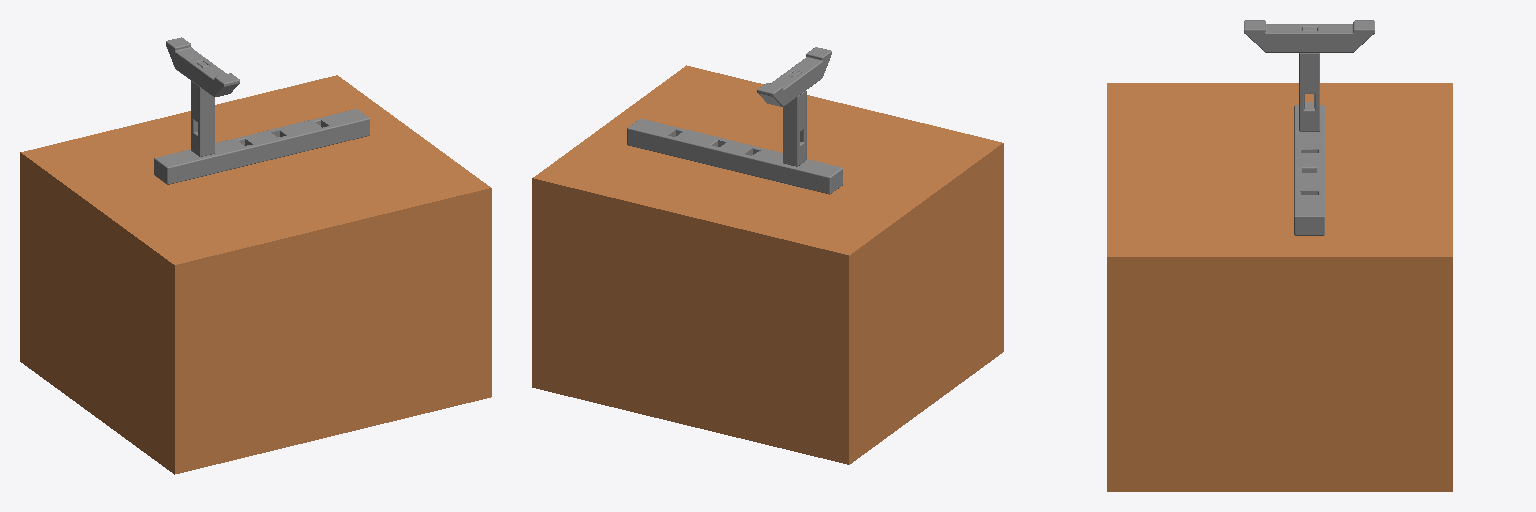
robot.urdf — table_beam_2x_3_scene_0026:
<?xml version="1.0"?>
<robot name="table_beam_2x_3_scene_0026">
  <link name="box">
    <visual>
      <material name="wood"><color rgba="0.82 0.56 0.35 1.0"/></material>
      <origin xyz="0 0 0"/>
      <geometry><box size="0.475 0.4 0.3"/></geometry>
    </visual>
    <collision>
      <origin xyz="0 0 0"/>
      <geometry><box size="0.475 0.4 0.3"/></geometry>
    </collision>
    <inertial>
      <mass value="500"/>
      <friction value="1.0"/>
      <inertia ixx="1000.0" ixy="0.0" ixz="0.0" iyy="1000.0" iyz="0.0" izz="1000.0"/>
    </inertial>
  </link>
  <link name="part_6_hull_0">
    <visual>
      <origin xyz="0 0 0" rpy="0 0 0"/>
      <geometry><mesh filename="../../6/coacd/decomp_0.obj" scale="1 1 1"/></geometry>
      <material name="placed_0"><color rgba="0.6 0.6 0.6 1.0"/></material>
    </visual>
    <collision>
      <origin xyz="0 0 0" rpy="0 0 0"/>
      <geometry><mesh filename="../../6/coacd/decomp_0.obj" scale="1 1 1"/></geometry>
    </collision>
  </link>
  <joint name="part_6_hull_0_joint" type="fixed">
    <parent link="box"/>
    <child link="part_6_hull_0"/>
    <origin xyz="0.029166 0.034238 0.162666" rpy="0.000000 0.000000 0.000000"/>
  </joint>
  <link name="part_6_hull_1">
    <visual>
      <origin xyz="0 0 0" rpy="0 0 0"/>
      <geometry><mesh filename="../../6/coacd/decomp_1.obj" scale="1 1 1"/></geometry>
      <material name="placed_1"><color rgba="0.6 0.6 0.6 1.0"/></material>
    </visual>
    <collision>
      <origin xyz="0 0 0" rpy="0 0 0"/>
      <geometry><mesh filename="../../6/coacd/decomp_1.obj" scale="1 1 1"/></geometry>
    </collision>
  </link>
  <joint name="part_6_hull_1_joint" type="fixed">
    <parent link="box"/>
    <child link="part_6_hull_1"/>
    <origin xyz="0.029166 0.034238 0.162666" rpy="0.000000 0.000000 0.000000"/>
  </joint>
  <link name="part_6_hull_2">
    <visual>
      <origin xyz="0 0 0" rpy="0 0 0"/>
      <geometry><mesh filename="../../6/coacd/decomp_10.obj" scale="1 1 1"/></geometry>
      <material name="placed_2"><color rgba="0.6 0.6 0.6 1.0"/></material>
    </visual>
    <collision>
      <origin xyz="0 0 0" rpy="0 0 0"/>
      <geometry><mesh filename="../../6/coacd/decomp_10.obj" scale="1 1 1"/></geometry>
    </collision>
  </link>
  <joint name="part_6_hull_2_joint" type="fixed">
    <parent link="box"/>
    <child link="part_6_hull_2"/>
    <origin xyz="0.029166 0.034238 0.162666" rpy="0.000000 0.000000 0.000000"/>
  </joint>
  <link name="part_6_hull_3">
    <visual>
      <origin xyz="0 0 0" rpy="0 0 0"/>
      <geometry><mesh filename="../../6/coacd/decomp_11.obj" scale="1 1 1"/></geometry>
      <material name="placed_3"><color rgba="0.6 0.6 0.6 1.0"/></material>
    </visual>
    <collision>
      <origin xyz="0 0 0" rpy="0 0 0"/>
      <geometry><mesh filename="../../6/coacd/decomp_11.obj" scale="1 1 1"/></geometry>
    </collision>
  </link>
  <joint name="part_6_hull_3_joint" type="fixed">
    <parent link="box"/>
    <child link="part_6_hull_3"/>
    <origin xyz="0.029166 0.034238 0.162666" rpy="0.000000 0.000000 0.000000"/>
  </joint>
  <link name="part_6_hull_4">
    <visual>
      <origin xyz="0 0 0" rpy="0 0 0"/>
      <geometry><mesh filename="../../6/coacd/decomp_12.obj" scale="1 1 1"/></geometry>
      <material name="placed_4"><color rgba="0.6 0.6 0.6 1.0"/></material>
    </visual>
    <collision>
      <origin xyz="0 0 0" rpy="0 0 0"/>
      <geometry><mesh filename="../../6/coacd/decomp_12.obj" scale="1 1 1"/></geometry>
    </collision>
  </link>
  <joint name="part_6_hull_4_joint" type="fixed">
    <parent link="box"/>
    <child link="part_6_hull_4"/>
    <origin xyz="0.029166 0.034238 0.162666" rpy="0.000000 0.000000 0.000000"/>
  </joint>
  <link name="part_6_hull_5">
    <visual>
      <origin xyz="0 0 0" rpy="0 0 0"/>
      <geometry><mesh filename="../../6/coacd/decomp_13.obj" scale="1 1 1"/></geometry>
      <material name="placed_5"><color rgba="0.6 0.6 0.6 1.0"/></material>
    </visual>
    <collision>
      <origin xyz="0 0 0" rpy="0 0 0"/>
      <geometry><mesh filename="../../6/coacd/decomp_13.obj" scale="1 1 1"/></geometry>
    </collision>
  </link>
  <joint name="part_6_hull_5_joint" type="fixed">
    <parent link="box"/>
    <child link="part_6_hull_5"/>
    <origin xyz="0.029166 0.034238 0.162666" rpy="0.000000 0.000000 0.000000"/>
  </joint>
  <link name="part_6_hull_6">
    <visual>
      <origin xyz="0 0 0" rpy="0 0 0"/>
      <geometry><mesh filename="../../6/coacd/decomp_2.obj" scale="1 1 1"/></geometry>
      <material name="placed_6"><color rgba="0.6 0.6 0.6 1.0"/></material>
    </visual>
    <collision>
      <origin xyz="0 0 0" rpy="0 0 0"/>
      <geometry><mesh filename="../../6/coacd/decomp_2.obj" scale="1 1 1"/></geometry>
    </collision>
  </link>
  <joint name="part_6_hull_6_joint" type="fixed">
    <parent link="box"/>
    <child link="part_6_hull_6"/>
    <origin xyz="0.029166 0.034238 0.162666" rpy="0.000000 0.000000 0.000000"/>
  </joint>
  <link name="part_6_hull_7">
    <visual>
      <origin xyz="0 0 0" rpy="0 0 0"/>
      <geometry><mesh filename="../../6/coacd/decomp_3.obj" scale="1 1 1"/></geometry>
      <material name="placed_7"><color rgba="0.6 0.6 0.6 1.0"/></material>
    </visual>
    <collision>
      <origin xyz="0 0 0" rpy="0 0 0"/>
      <geometry><mesh filename="../../6/coacd/decomp_3.obj" scale="1 1 1"/></geometry>
    </collision>
  </link>
  <joint name="part_6_hull_7_joint" type="fixed">
    <parent link="box"/>
    <child link="part_6_hull_7"/>
    <origin xyz="0.029166 0.034238 0.162666" rpy="0.000000 0.000000 0.000000"/>
  </joint>
  <link name="part_6_hull_8">
    <visual>
      <origin xyz="0 0 0" rpy="0 0 0"/>
      <geometry><mesh filename="../../6/coacd/decomp_4.obj" scale="1 1 1"/></geometry>
      <material name="placed_8"><color rgba="0.6 0.6 0.6 1.0"/></material>
    </visual>
    <collision>
      <origin xyz="0 0 0" rpy="0 0 0"/>
      <geometry><mesh filename="../../6/coacd/decomp_4.obj" scale="1 1 1"/></geometry>
    </collision>
  </link>
  <joint name="part_6_hull_8_joint" type="fixed">
    <parent link="box"/>
    <child link="part_6_hull_8"/>
    <origin xyz="0.029166 0.034238 0.162666" rpy="0.000000 0.000000 0.000000"/>
  </joint>
  <link name="part_6_hull_9">
    <visual>
      <origin xyz="0 0 0" rpy="0 0 0"/>
      <geometry><mesh filename="../../6/coacd/decomp_5.obj" scale="1 1 1"/></geometry>
      <material name="placed_9"><color rgba="0.6 0.6 0.6 1.0"/></material>
    </visual>
    <collision>
      <origin xyz="0 0 0" rpy="0 0 0"/>
      <geometry><mesh filename="../../6/coacd/decomp_5.obj" scale="1 1 1"/></geometry>
    </collision>
  </link>
  <joint name="part_6_hull_9_joint" type="fixed">
    <parent link="box"/>
    <child link="part_6_hull_9"/>
    <origin xyz="0.029166 0.034238 0.162666" rpy="0.000000 0.000000 0.000000"/>
  </joint>
  <link name="part_6_hull_10">
    <visual>
      <origin xyz="0 0 0" rpy="0 0 0"/>
      <geometry><mesh filename="../../6/coacd/decomp_6.obj" scale="1 1 1"/></geometry>
      <material name="placed_10"><color rgba="0.6 0.6 0.6 1.0"/></material>
    </visual>
    <collision>
      <origin xyz="0 0 0" rpy="0 0 0"/>
      <geometry><mesh filename="../../6/coacd/decomp_6.obj" scale="1 1 1"/></geometry>
    </collision>
  </link>
  <joint name="part_6_hull_10_joint" type="fixed">
    <parent link="box"/>
    <child link="part_6_hull_10"/>
    <origin xyz="0.029166 0.034238 0.162666" rpy="0.000000 0.000000 0.000000"/>
  </joint>
  <link name="part_6_hull_11">
    <visual>
      <origin xyz="0 0 0" rpy="0 0 0"/>
      <geometry><mesh filename="../../6/coacd/decomp_7.obj" scale="1 1 1"/></geometry>
      <material name="placed_11"><color rgba="0.6 0.6 0.6 1.0"/></material>
    </visual>
    <collision>
      <origin xyz="0 0 0" rpy="0 0 0"/>
      <geometry><mesh filename="../../6/coacd/decomp_7.obj" scale="1 1 1"/></geometry>
    </collision>
  </link>
  <joint name="part_6_hull_11_joint" type="fixed">
    <parent link="box"/>
    <child link="part_6_hull_11"/>
    <origin xyz="0.029166 0.034238 0.162666" rpy="0.000000 0.000000 0.000000"/>
  </joint>
  <link name="part_6_hull_12">
    <visual>
      <origin xyz="0 0 0" rpy="0 0 0"/>
      <geometry><mesh filename="../../6/coacd/decomp_8.obj" scale="1 1 1"/></geometry>
      <material name="placed_12"><color rgba="0.6 0.6 0.6 1.0"/></material>
    </visual>
    <collision>
      <origin xyz="0 0 0" rpy="0 0 0"/>
      <geometry><mesh filename="../../6/coacd/decomp_8.obj" scale="1 1 1"/></geometry>
    </collision>
  </link>
  <joint name="part_6_hull_12_joint" type="fixed">
    <parent link="box"/>
    <child link="part_6_hull_12"/>
    <origin xyz="0.029166 0.034238 0.162666" rpy="0.000000 0.000000 0.000000"/>
  </joint>
  <link name="part_6_hull_13">
    <visual>
      <origin xyz="0 0 0" rpy="0 0 0"/>
      <geometry><mesh filename="../../6/coacd/decomp_9.obj" scale="1 1 1"/></geometry>
      <material name="placed_13"><color rgba="0.6 0.6 0.6 1.0"/></material>
    </visual>
    <collision>
      <origin xyz="0 0 0" rpy="0 0 0"/>
      <geometry><mesh filename="../../6/coacd/decomp_9.obj" scale="1 1 1"/></geometry>
    </collision>
  </link>
  <joint name="part_6_hull_13_joint" type="fixed">
    <parent link="box"/>
    <child link="part_6_hull_13"/>
    <origin xyz="0.029166 0.034238 0.162666" rpy="0.000000 0.000000 0.000000"/>
  </joint>
  <link name="part_2_canonical">
    <visual>
      <origin xyz="0 0 0" rpy="0 0 0"/>
      <geometry><mesh filename="../../2/2_canonical.obj" scale="1 1 1"/></geometry>
      <material name="placed_14"><color rgba="0.6 0.6 0.6 1.0"/></material>
    </visual>
    <collision>
      <origin xyz="0 0 0" rpy="0 0 0"/>
      <geometry><mesh filename="../../2/2_canonical.obj" scale="1 1 1"/></geometry>
    </collision>
  </link>
  <joint name="part_2_canonical_joint" type="fixed">
    <parent link="box"/>
    <child link="part_2_canonical"/>
    <origin xyz="-0.059761 0.034238 0.225384" rpy="0.000000 -1.570796 0.000000"/>
  </joint>
  <link name="part_0_canonical">
    <visual>
      <origin xyz="0 0 0" rpy="0 0 0"/>
      <geometry><mesh filename="../../0/0_canonical.obj" scale="1 1 1"/></geometry>
      <material name="placed_15"><color rgba="0.6 0.6 0.6 1.0"/></material>
    </visual>
    <collision>
      <origin xyz="0 0 0" rpy="0 0 0"/>
      <geometry><mesh filename="../../0/0_canonical.obj" scale="1 1 1"/></geometry>
    </collision>
  </link>
  <joint name="part_0_canonical_joint" type="fixed">
    <parent link="box"/>
    <child link="part_0_canonical"/>
    <origin xyz="-0.059734 0.034238 0.292243" rpy="1.570796 0.000000 -1.570796"/>
  </joint>
</robot>

--- Facts derived from the render (not from the file) ---
The picture shows the robot from 3 angles, left to right: view 1: azimuth 30°, elevation 25°; view 2: azimuth 150°, elevation 25°; view 3: azimuth 270°, elevation 25°; orthographic projection.
Model table_beam_2x_3_scene_0026 with 17 links and 16 joints (16 fixed), rooted at box, posed every joint at zero.
Links seen in each view (by area): view 1: box, part_0_canonical, part_2_canonical, part_6_hull_1, part_6_hull_0, part_6_hull_9, part_6_hull_5, part_6_hull_3; view 2: box, part_0_canonical, part_2_canonical, part_6_hull_1, part_6_hull_0, part_6_hull_2, part_6_hull_5, part_6_hull_12; view 3: box, part_0_canonical, part_2_canonical, part_6_hull_0, part_6_hull_5.
Boxes of the visible links, x1,y1,x2,y2 form: box: (20,75,491,474); part_0_canonical: (166,37,239,97); part_2_canonical: (191,61,214,156); part_6_hull_1: (154,149,205,184); part_6_hull_0: (319,109,369,144); part_6_hull_9: (204,145,255,175); part_6_hull_5: (285,120,324,152); part_6_hull_3: (257,134,297,161); box: (532,65,1003,464); part_0_canonical: (757,47,831,106); part_2_canonical: (783,71,806,166); part_6_hull_1: (791,159,842,194); part_6_hull_0: (627,119,677,154); part_6_hull_2: (749,151,786,182); part_6_hull_5: (673,130,711,162); part_6_hull_12: (700,143,740,171); box: (1107,83,1452,491); part_0_canonical: (1244,20,1374,52); part_2_canonical: (1299,27,1319,131); part_6_hull_0: (1294,195,1324,235); part_6_hull_5: (1294,176,1324,194).
Bounding box of the posed robot: 0.475 × 0.4 × 0.4575 m (x, y, z).
Meshes: 16 distinct files referenced, 16 mesh visuals loaded (16 OBJ).
